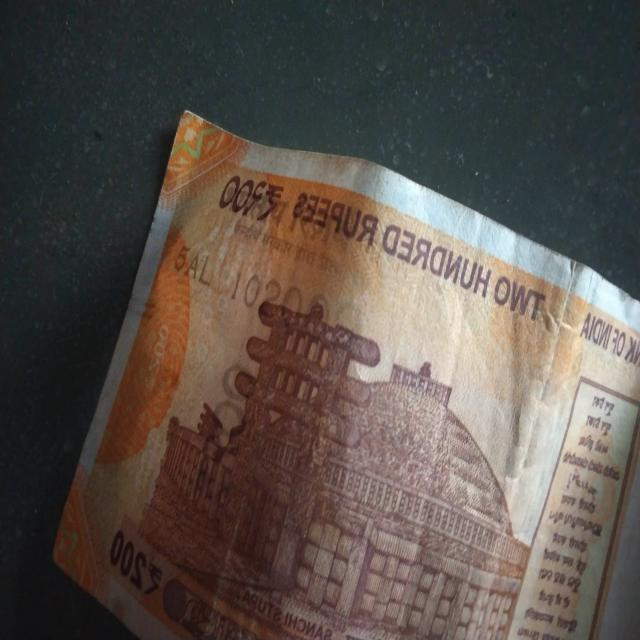200rs: (52, 108, 638, 640)
